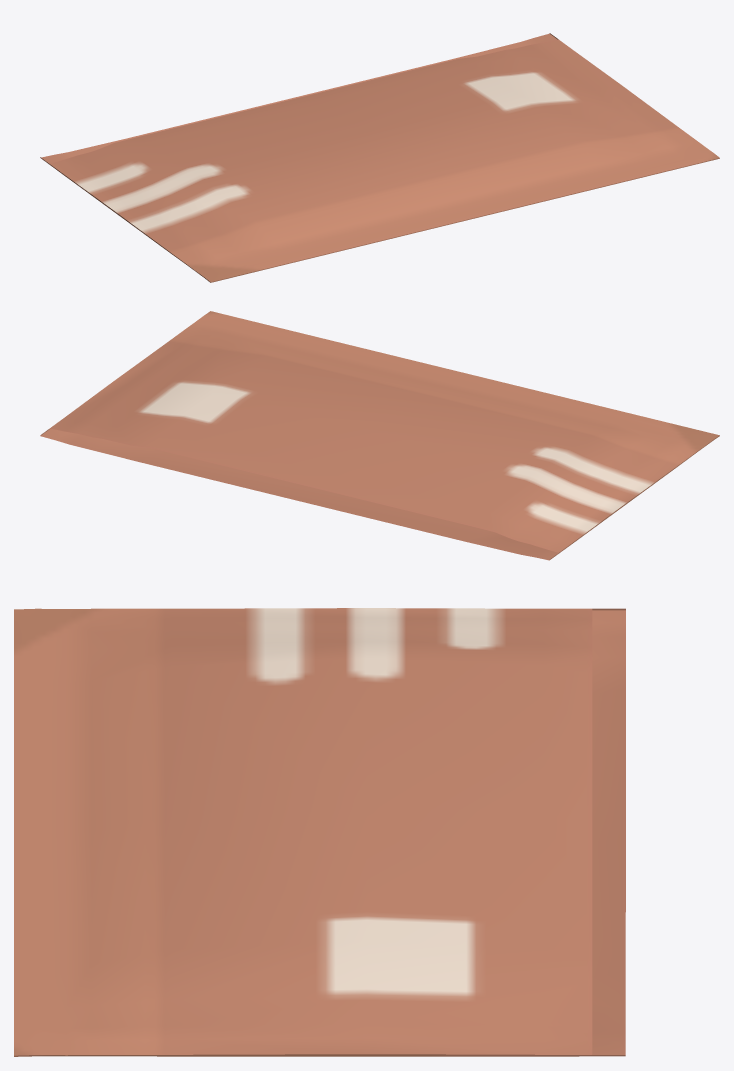
The model's file is Letter.fbx.
The picture shows the model from 3 angles, top to bottom: view 1: azimuth 30°, elevation 25°; view 2: azimuth 150°, elevation 25°; view 3: azimuth 270°, elevation 25°; orthographic projection. The views are drawn at different scales.
Visible parts, largest first — view 1: Letter; view 2: Letter; view 3: Letter.
Part boxes in pixels (<box>): Letter: <box>40,33,719,282</box>; Letter: <box>40,311,719,560</box>; Letter: <box>14,608,625,1056</box>.
Size of the model in its own units: 101 by 5.9 by 67.21.
